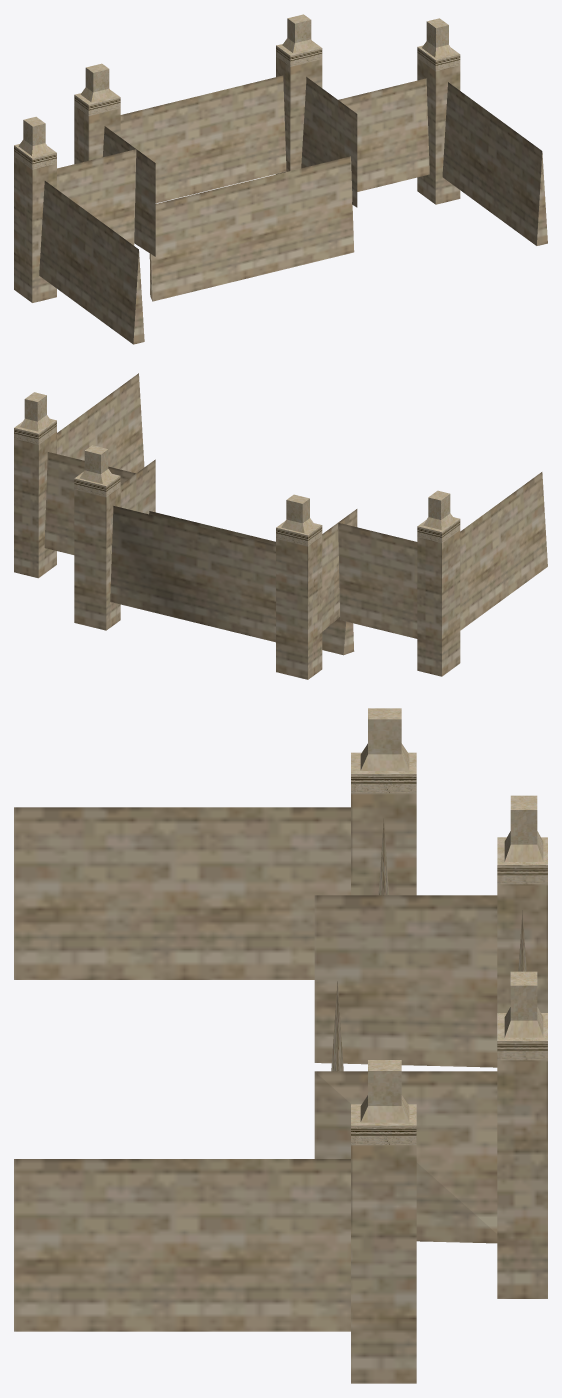
The model's file is poi_nboo_corral_half_32x32_s03_l1.fbx.
The picture shows the model from 3 angles, top to bottom: view 1: azimuth 30°, elevation 25°; view 2: azimuth 150°, elevation 25°; view 3: azimuth 270°, elevation 25°; orthographic projection. The views are drawn at different scales.
Parts seen in each view (by area): view 1: mesh_node; view 2: mesh_node; view 3: mesh_node.
Boxes of the visible parts, <box> form: mesh_node: <box>14,14,547,344</box>; mesh_node: <box>14,373,547,679</box>; mesh_node: <box>14,708,547,1383</box>.
Bounding box in the file's own units: 19.1 × 8.22 × 11.55.
